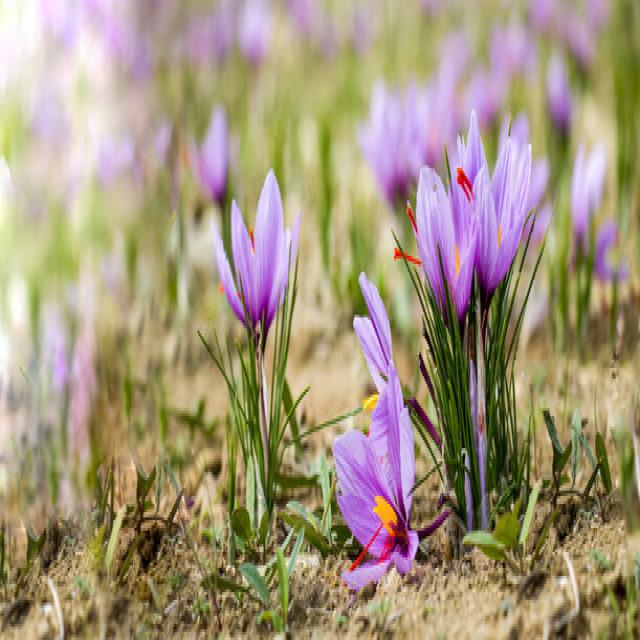saffron open: (334, 360, 418, 592), (212, 169, 300, 353), (472, 130, 531, 309), (416, 165, 478, 321)
